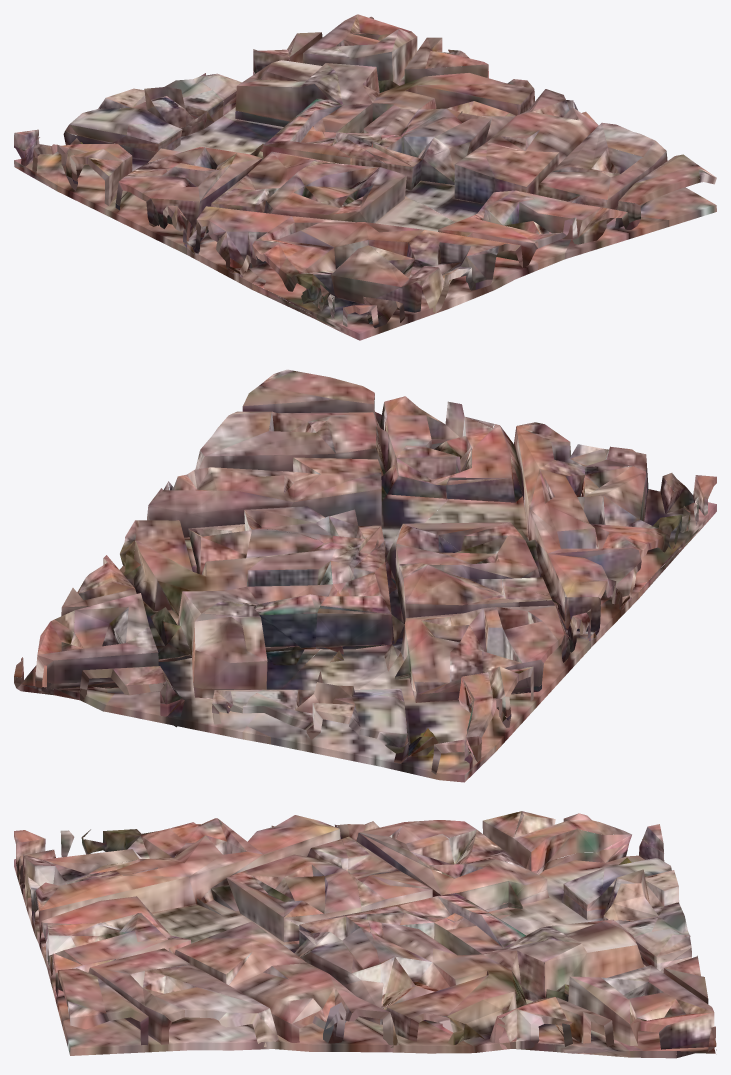
3 views of the same model, one above another, from view 1: azimuth 30°, elevation 25°; view 2: azimuth 150°, elevation 25°; view 3: azimuth 270°, elevation 25° (orthographic). The views are drawn at different scales.
Visible parts, largest first — view 1: Mesh_0; view 2: Mesh_0; view 3: Mesh_0.
Part boxes in pixels (left/top/right/bottom): Mesh_0: left=14, top=14, right=716, bottom=340; Mesh_0: left=14, top=369, right=716, bottom=782; Mesh_0: left=14, top=811, right=716, bottom=1058.
Size of the model in its own units: 266 by 48.69 by 330.
Materials: 2 (2 with a texture image).
